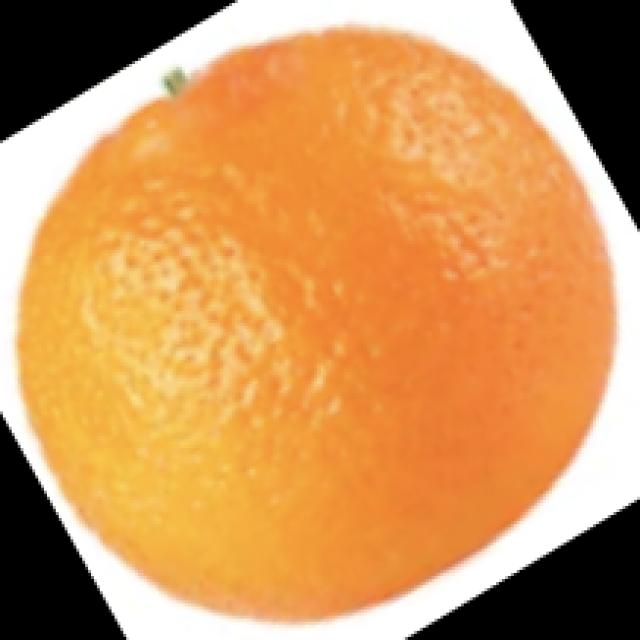fresh: (6, 14, 620, 632)
